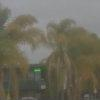Palm tree: (48, 18, 98, 100)
